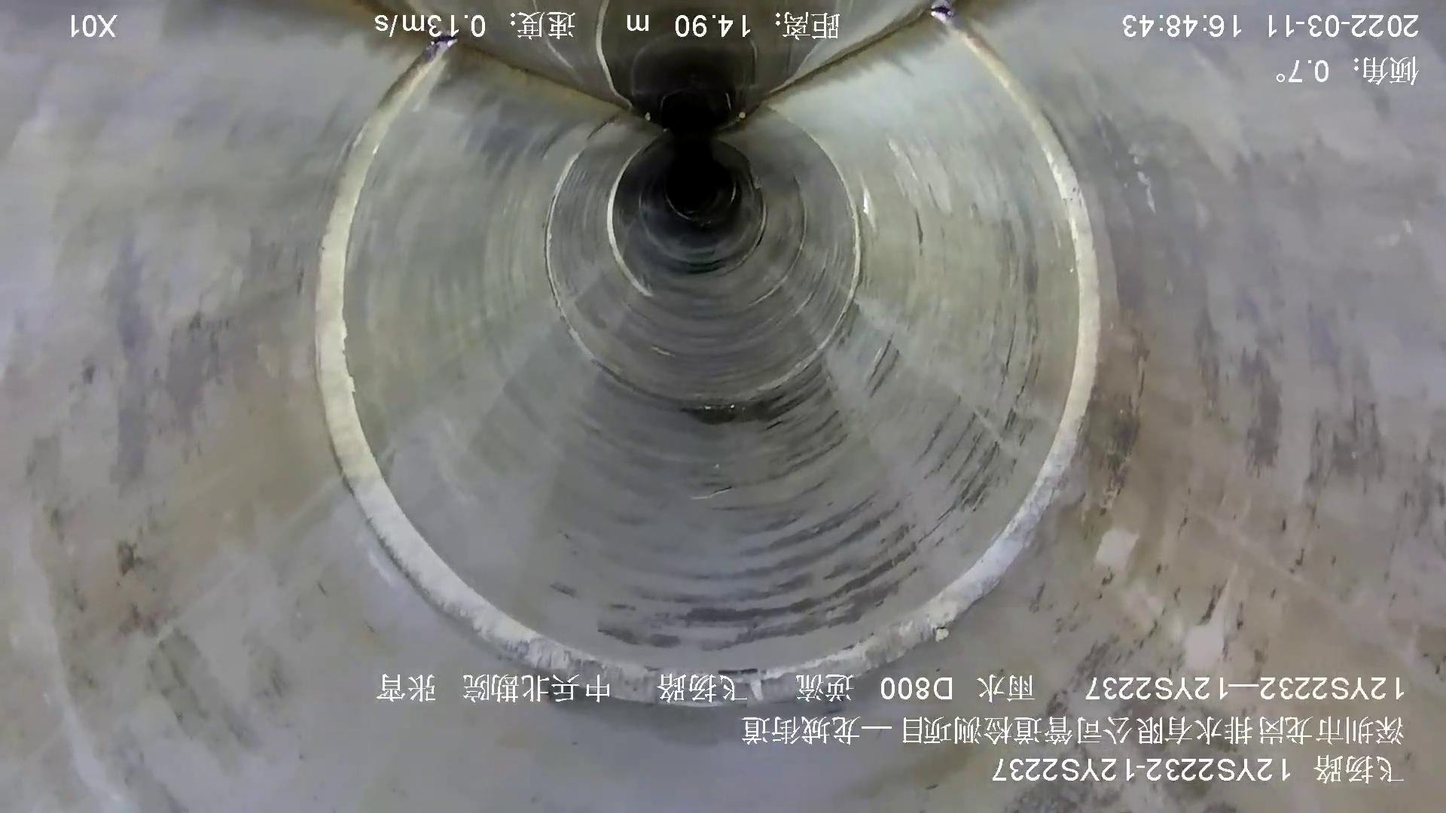CKTJ: (315, 5, 1101, 707), (541, 98, 865, 410), (604, 129, 668, 300)
